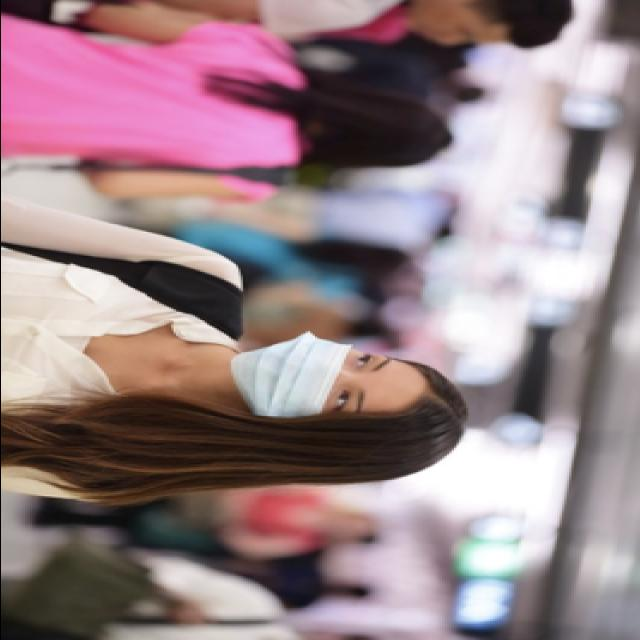mask: (230, 330, 400, 422)
